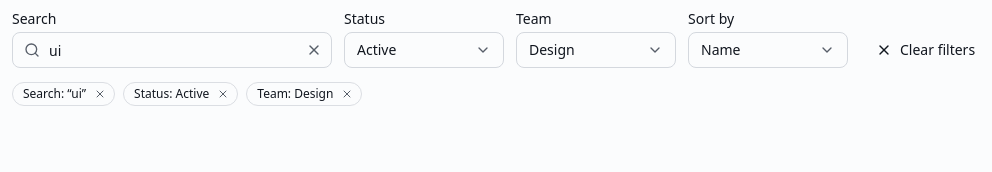
Test: SearchFilterToolbar › removing a chip › turns just that criterion off
Click the button named "Remove filter Status: Active". click: (223,94)
box: top-left (213, 84), bottom-right (233, 104)
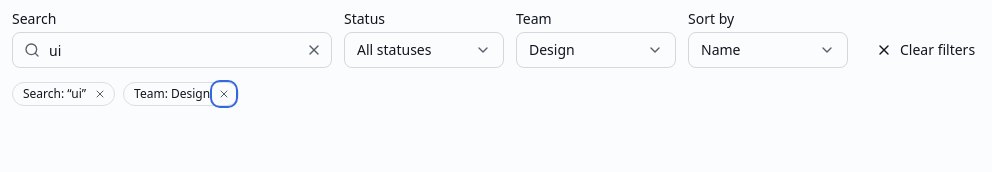
Result: the list items read "Search: “ui”", "Team: Design", in this order at top-left (12, 80), bottom-right (115, 106); top-left (123, 80), bottom-right (239, 106)
